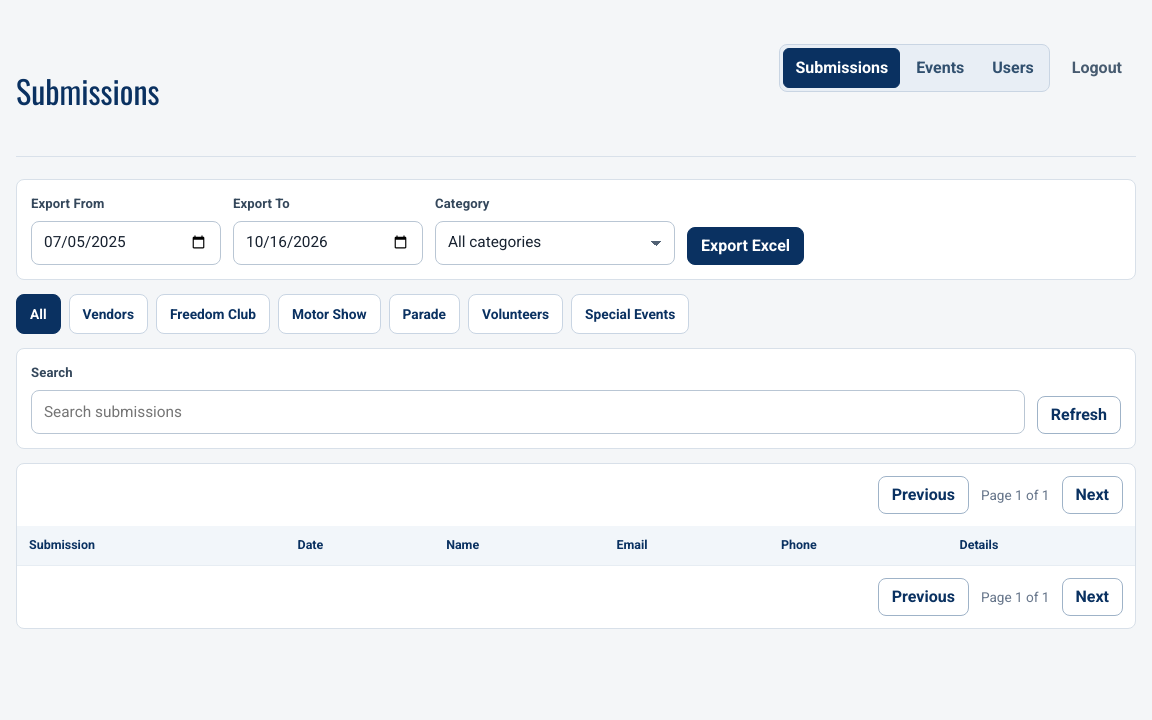
Test: AdminComponent › switches to submissions and renders spreadsheet rows
Click the button with test id "admin-section-submissions".
click(842, 68)  # box [783,48,900,88]
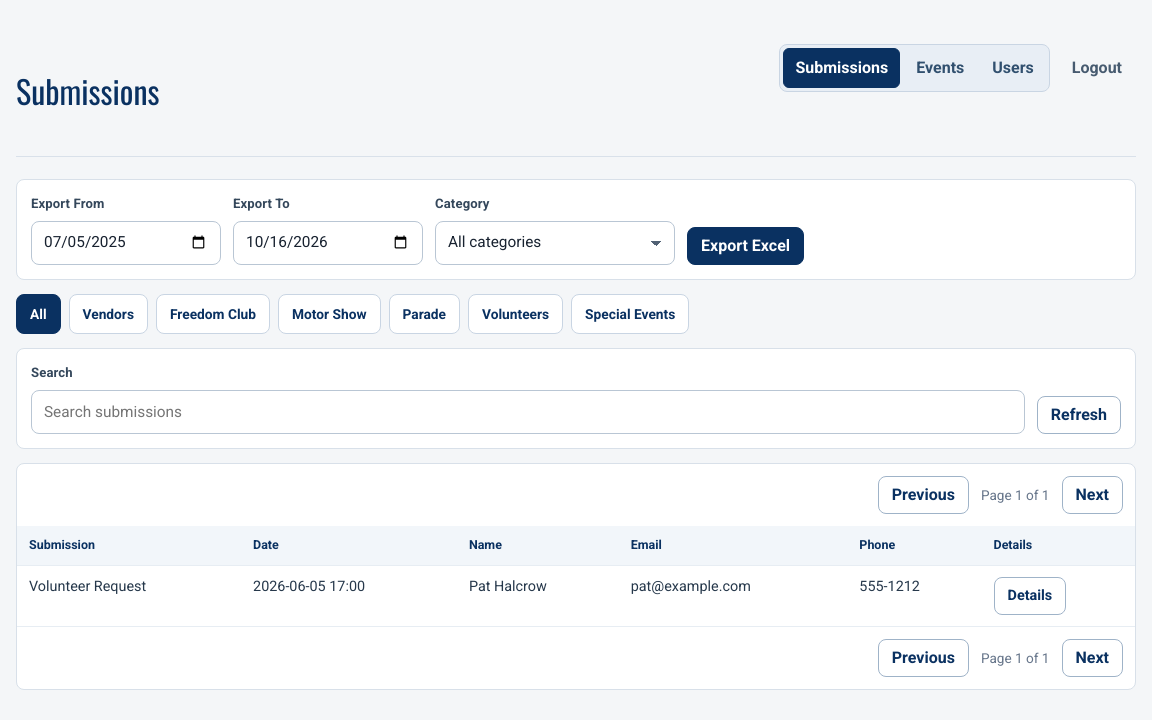
Expected: the table with class "submissions-table" shows "Volunteer Request", [29,578,146,595]
Expected: the table with class "submissions-table" shows "Pat Halcrow", [469,578,547,595]
